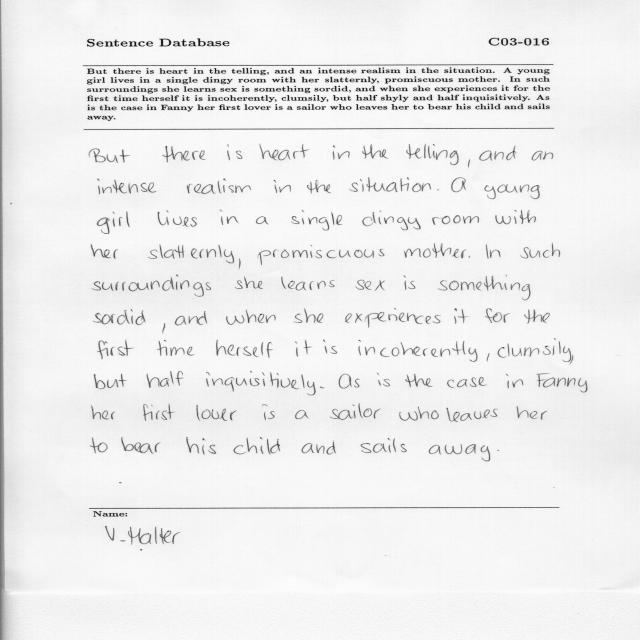word: (206, 371, 316, 396), (358, 340, 478, 362), (93, 275, 212, 297), (258, 245, 385, 265), (438, 275, 530, 301), (345, 308, 441, 328), (148, 244, 234, 264), (498, 339, 572, 362), (350, 178, 431, 193), (362, 211, 421, 231), (406, 144, 459, 165), (291, 210, 342, 231), (536, 373, 588, 393), (429, 444, 490, 461), (216, 340, 273, 358), (187, 179, 251, 194), (404, 244, 466, 259), (98, 179, 156, 194), (330, 403, 381, 420), (484, 185, 540, 200), (94, 309, 146, 325), (233, 437, 280, 454), (260, 144, 309, 160), (97, 211, 130, 234), (281, 277, 335, 291), (226, 310, 276, 325), (446, 408, 498, 422), (162, 146, 206, 162), (361, 438, 407, 453), (98, 340, 134, 359), (157, 210, 197, 227), (196, 405, 237, 421), (121, 438, 161, 454), (147, 371, 184, 388), (89, 148, 130, 163), (521, 244, 561, 259), (157, 340, 194, 356), (495, 210, 536, 224), (399, 407, 439, 421), (479, 146, 516, 161), (143, 404, 175, 421), (186, 437, 216, 455), (94, 374, 126, 389), (302, 441, 336, 455), (432, 215, 479, 225), (175, 311, 207, 325), (294, 308, 323, 323), (517, 406, 548, 420), (448, 377, 487, 388), (91, 244, 118, 259), (362, 144, 388, 159), (524, 309, 550, 324), (485, 308, 510, 323), (405, 374, 433, 387), (235, 277, 263, 289), (92, 406, 116, 420), (355, 280, 385, 291), (339, 374, 360, 389), (307, 180, 331, 193), (295, 340, 312, 357), (220, 210, 239, 225), (91, 437, 108, 453), (333, 145, 350, 160), (506, 374, 523, 389), (227, 145, 242, 161), (451, 178, 466, 193), (454, 308, 468, 324), (274, 180, 291, 193), (532, 151, 553, 161), (486, 244, 500, 259), (323, 339, 337, 354), (262, 404, 275, 420), (404, 275, 416, 290), (377, 373, 390, 386), (295, 410, 309, 419), (256, 216, 268, 225), (570, 356, 574, 365), (163, 323, 166, 333), (487, 353, 490, 361), (239, 259, 241, 269), (468, 160, 470, 168), (320, 387, 324, 389), (437, 189, 439, 191), (469, 256, 470, 258), (497, 450, 499, 451)
